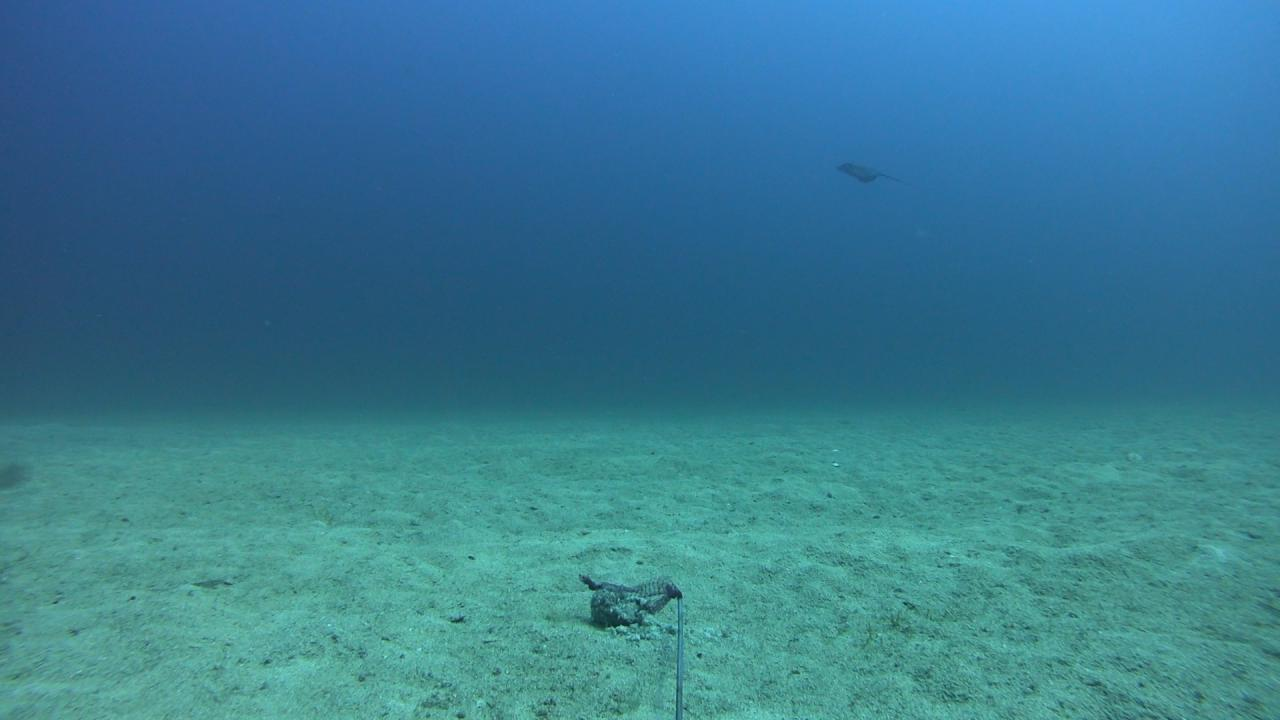dasyatis: (834, 161, 898, 184)
